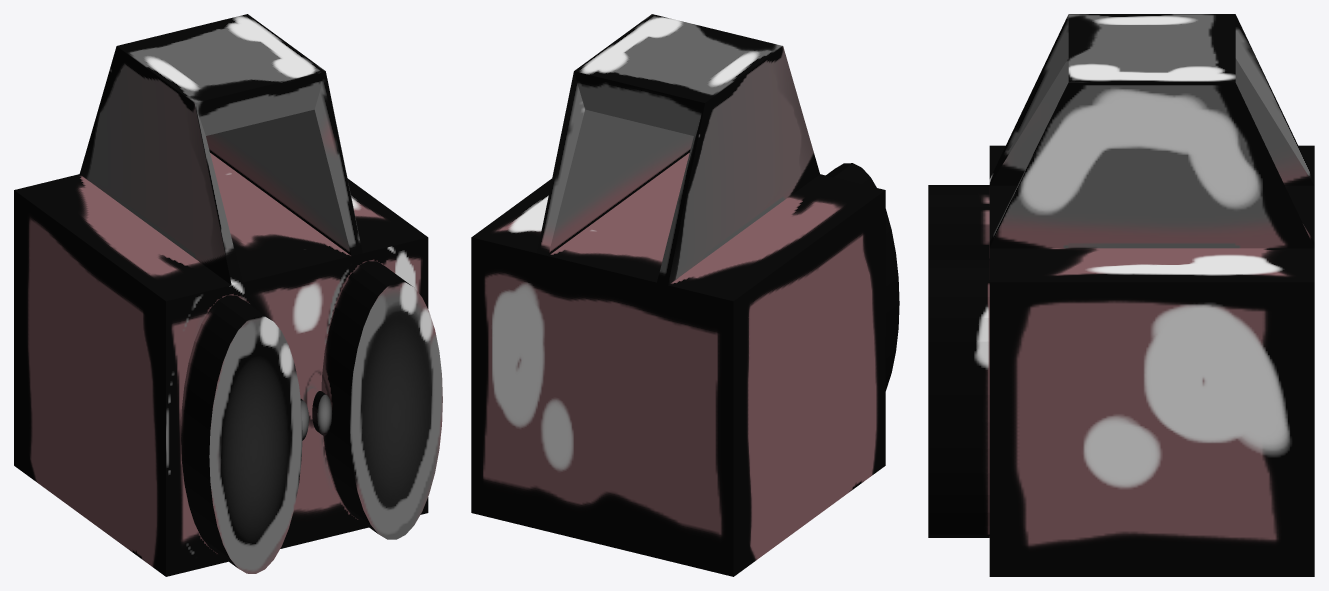
The model's file is boombox.glb.
3 renders of one model, left to right at view 1: azimuth 30°, elevation 25°; view 2: azimuth 150°, elevation 25°; view 3: azimuth 270°, elevation 25°, orthographic. The views are drawn at different scales.
Parts seen in each view (by area): view 1: Cube.001; view 2: Cube.001; view 3: Cube.001.
Part boxes in pixels (x1,y1,x2,y2): Cube.001: [14, 14, 442, 576]; Cube.001: [471, 14, 899, 576]; Cube.001: [928, 14, 1314, 576].
Size of the model in its own units: 0.9958 by 1.56 by 1.19.
Materials: 1 (1 with a texture image).
